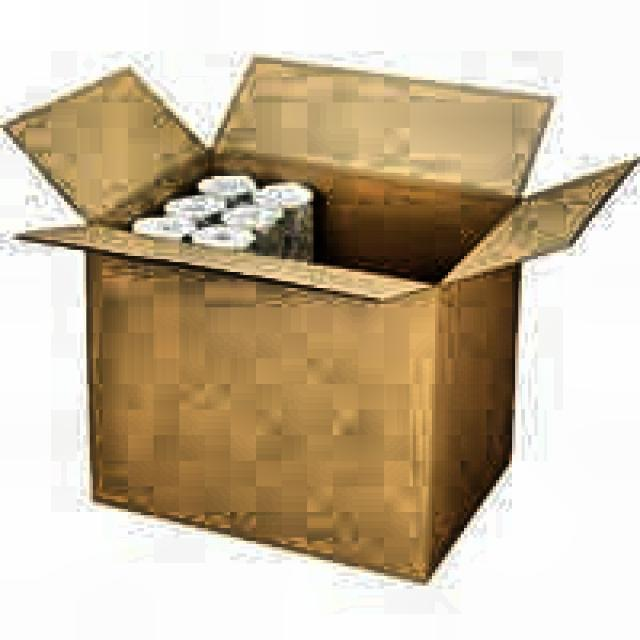cardboard: (0, 51, 637, 582)
